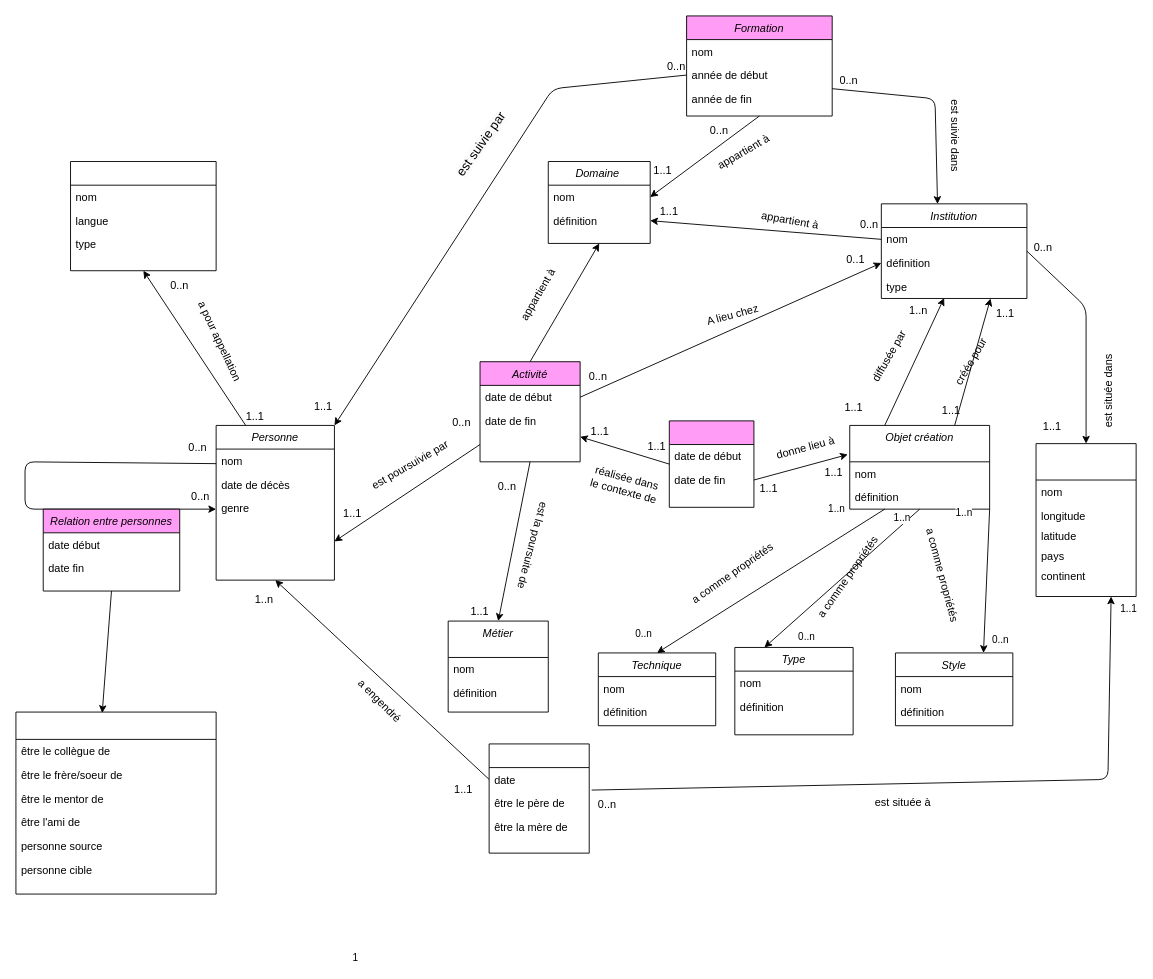
Some shapes in this 1153 by 979 pixel diagram are drawn without their labels. Here are the shapes that lost their labels. From the top down, the box of each, then its label:
(70, 161, 216, 271): Appellation
(668, 420, 754, 507): Création
(1035, 443, 1136, 597): Lieu
(15, 711, 216, 894): Type de relation
(488, 743, 589, 853): Naissance
